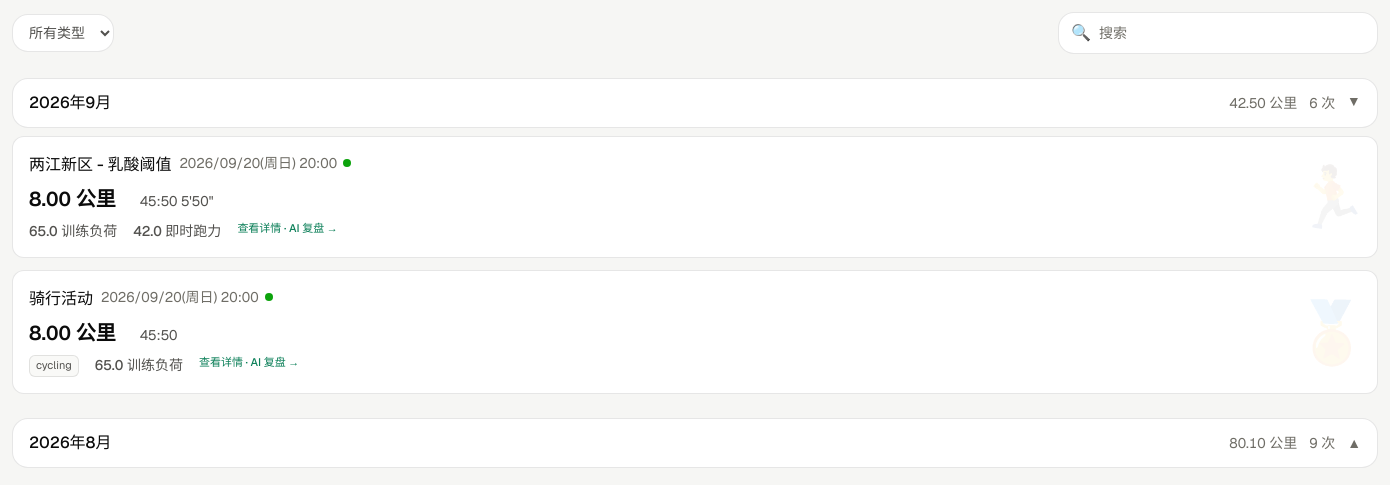
it: ListClient 活动列表 (交互/筛选/无限滚动) › 类型筛选: 非 running 活动被过滤掉
The width and height of the screenshot is (1390, 485).
Expected: the button "两江新区" is shown, [12,136,1378,258]
Expected: the button "骑行活动" is shown, [12,270,1378,394]
Select "跑步" in the dropdown named "活动类型筛选" at {"x": 63, "y": 33}, box [12,14,114,52]
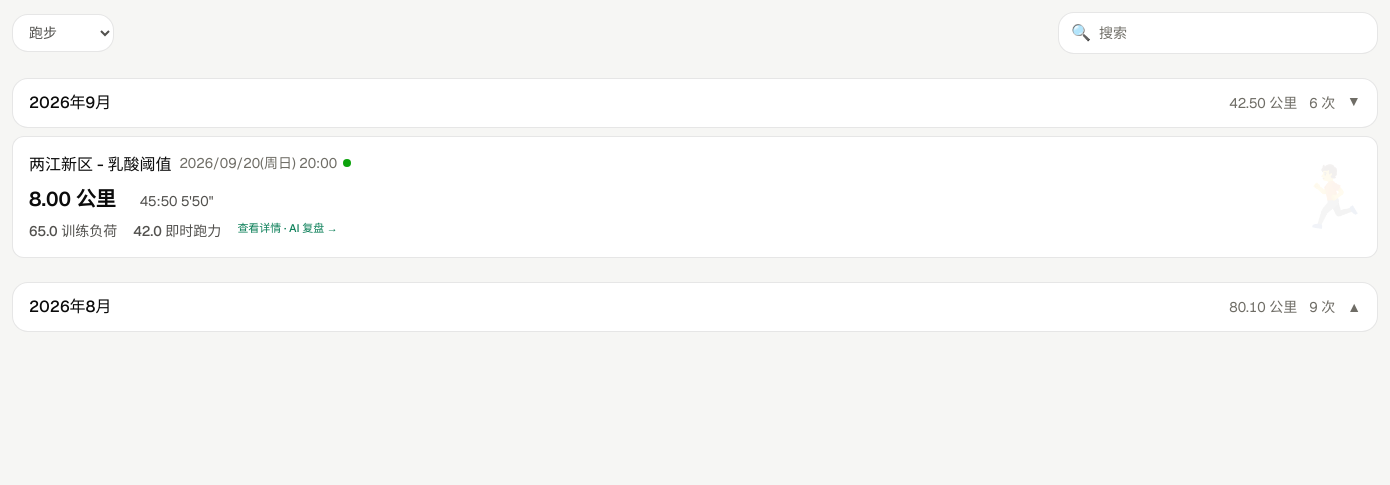
Expected: the button "两江新区" is shown, [12,136,1378,258]
Result: the button "骑行活动" is gone
